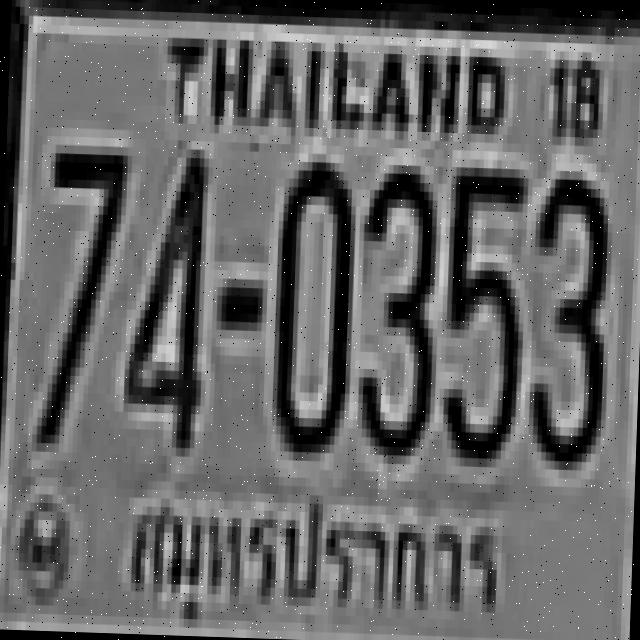0: (268, 152, 350, 453)
3: (522, 161, 610, 462), (354, 160, 436, 452)
4: (120, 142, 207, 444)
5: (437, 158, 524, 459)
7: (34, 140, 126, 440)
SamutPrakan: (116, 466, 505, 640)
